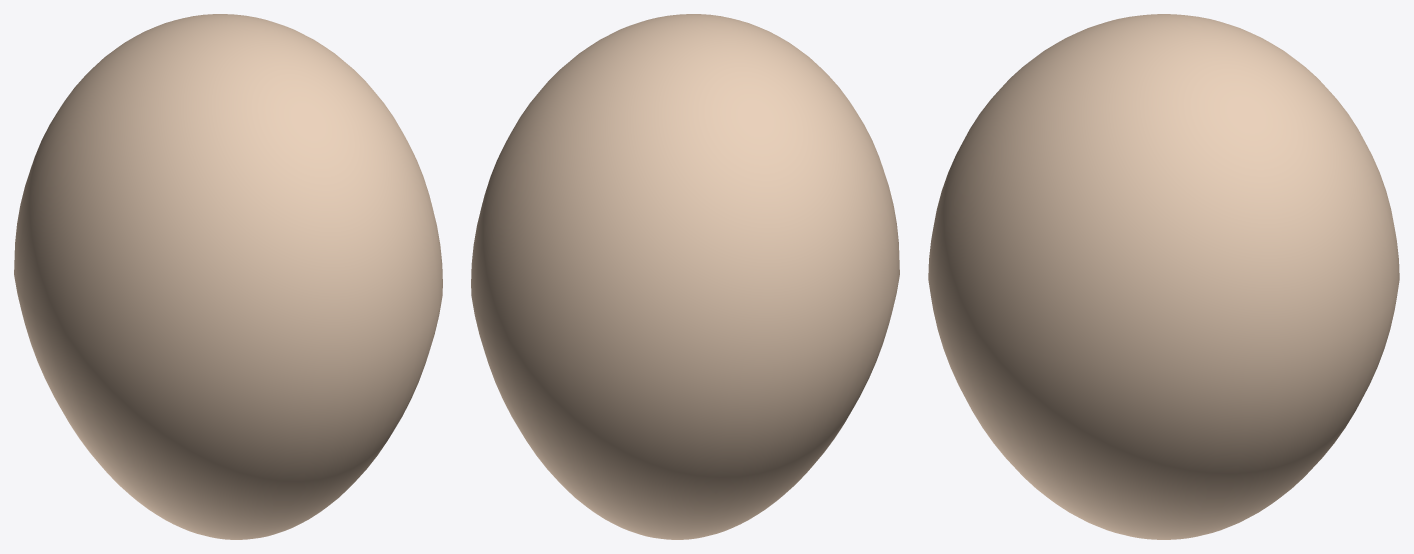
The model's file is test-avatar.glb.
3 renders of one model, left to right at view 1: azimuth 30°, elevation 25°; view 2: azimuth 150°, elevation 25°; view 3: azimuth 270°, elevation 25°, orthographic.
Visible parts, largest first — view 1: TestHead; view 2: TestHead; view 3: TestHead.
Part boxes in pixels (box(x1,y1,x2,y2)): TestHead: box(14, 14, 442, 539); TestHead: box(471, 14, 899, 539); TestHead: box(928, 14, 1399, 539).
Size of the model in its own units: 0.42 by 0.55 by 0.47.
